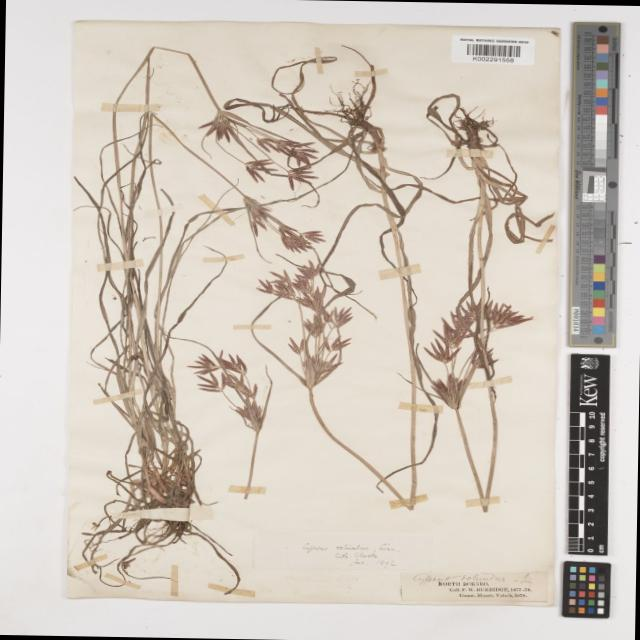cyperus: (417, 294, 532, 409), (254, 256, 353, 380), (205, 101, 322, 186), (183, 348, 270, 426), (235, 187, 328, 256)
